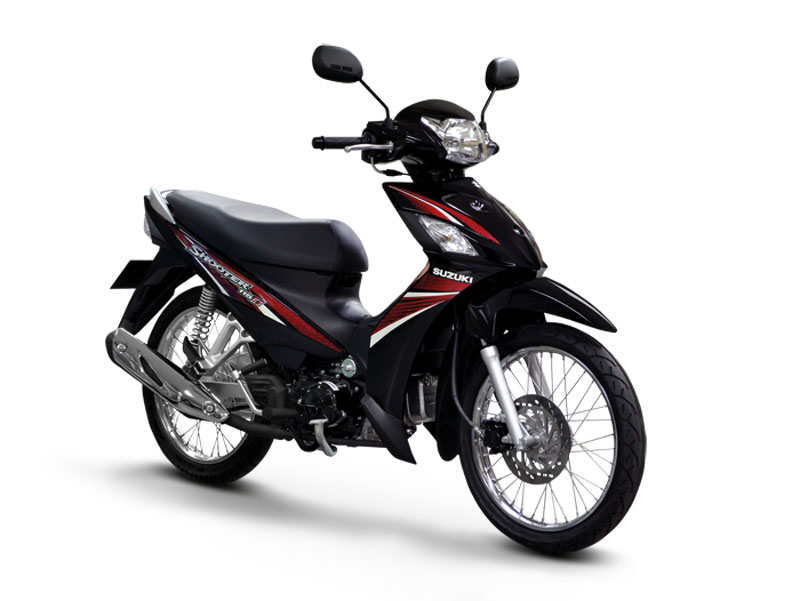motorcycle: (108, 96, 653, 556)
